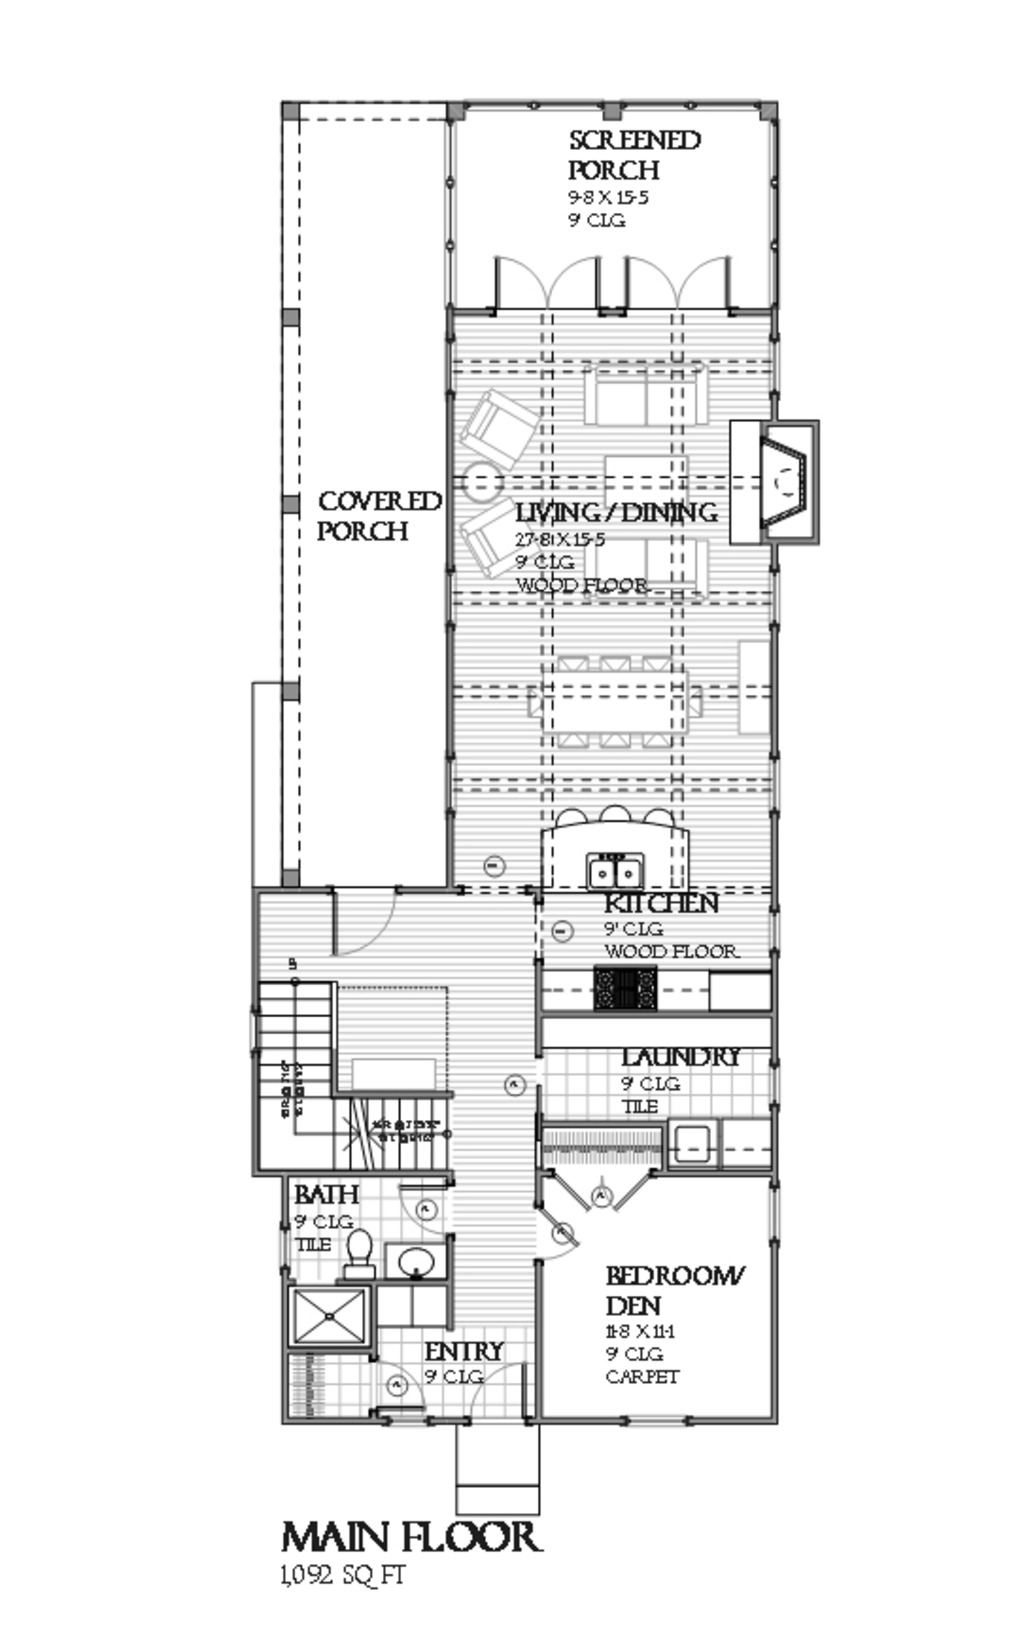dining_table: (521, 656, 700, 752)
door: (618, 252, 734, 316), (487, 252, 602, 312), (323, 878, 401, 952)
kitchen_bar: (539, 799, 697, 889)
large_sink: (332, 1223, 378, 1279)
large_sofa: (580, 366, 709, 430)
small_sink: (381, 1238, 449, 1273)
small_sofa: (460, 387, 537, 463), (467, 503, 534, 573)
stairs: (248, 975, 455, 1177)
